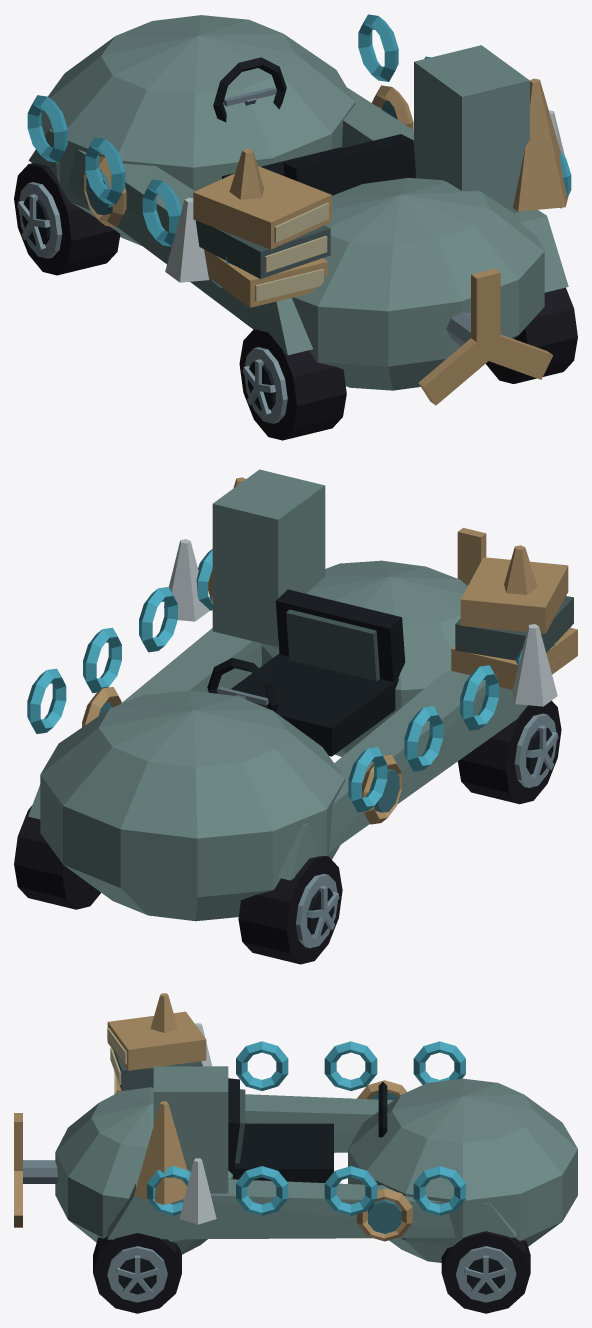
Rendered from kart.glb.
3 views of the same model, one above another, from view 1: azimuth 30°, elevation 25°; view 2: azimuth 150°, elevation 25°; view 3: azimuth 270°, elevation 25° (orthographic). The views are drawn at different scales.
Visible parts, largest first — view 1: identity-submarine-submarine-rounded-bow-and-stern-propeller, identity-submarine-motif-books, wheel-rear-left, identity-submarine-motif-crystals, identity-submarine-motif-water, wheel-front-left, identity-submarine-driver-cockpit, wheel-rear-right; view 2: identity-submarine-submarine-rounded-bow-and-stern-propeller, identity-submarine-driver-cockpit, identity-submarine-motif-water, identity-submarine-motif-books, wheel-front-left, wheel-rear-left, identity-submarine-motif-crystals, wheel-front-right; view 3: identity-submarine-submarine-rounded-bow-and-stern-propeller, identity-submarine-motif-water, identity-submarine-driver-cockpit, wheel-front-right, wheel-rear-right, identity-submarine-motif-crystals, identity-submarine-motif-books.
Part boxes in pixels (<box>): identity-submarine-submarine-rounded-bow-and-stern-propeller: <box>28,15,568,405</box>; identity-submarine-motif-books: <box>193,166,331,307</box>; wheel-rear-left: <box>239,329,346,440</box>; identity-submarine-motif-crystals: <box>165,78,568,282</box>; identity-submarine-motif-water: <box>27,14,571,287</box>; wheel-front-left: <box>14,163,120,275</box>; identity-submarine-driver-cockpit: <box>213,57,415,195</box>; wheel-rear-right: <box>485,287,577,383</box>; identity-submarine-submarine-rounded-bow-and-stern-propeller: <box>28,469,527,921</box>; identity-submarine-driver-cockpit: <box>207,589,405,756</box>; identity-submarine-motif-water: <box>27,549,554,812</box>; identity-submarine-motif-books: <box>451,557,577,689</box>; wheel-front-left: <box>238,856,342,964</box>; wheel-rear-left: <box>458,700,561,804</box>; identity-submarine-motif-crystals: <box>164,477,559,706</box>; wheel-front-right: <box>14,805,100,909</box>; identity-submarine-submarine-rounded-bow-and-stern-propeller: <box>14,1066,577,1262</box>; identity-submarine-motif-water: <box>147,1041,465,1215</box>; identity-submarine-driver-cockpit: <box>228,1078,387,1182</box>; wheel-front-right: <box>441,1231,530,1313</box>; wheel-rear-right: <box>93,1233,181,1313</box>; identity-submarine-motif-crystals: <box>134,993,216,1224</box>; identity-submarine-motif-books: <box>107,1011,206,1094</box>.
Bounding box in the file's own units: 2 × 1.36 × 3.17.
